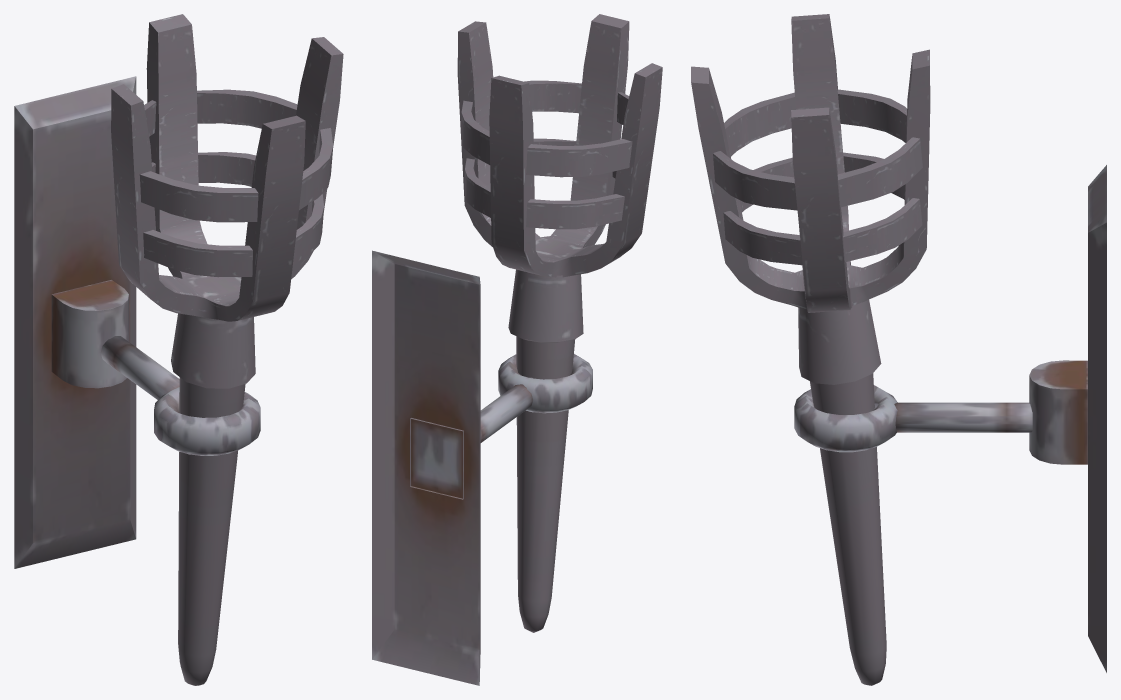
Rendered from torch.glb.
3 renders of one model, left to right at view 1: azimuth 30°, elevation 25°; view 2: azimuth 150°, elevation 25°; view 3: azimuth 270°, elevation 25°, orthographic. The views are drawn at different scales.
Parts seen in each view (by area): view 1: Torch_Metal; view 2: Torch_Metal; view 3: Torch_Metal.
Part boxes in pixels (x1,y1,x2,y2): Torch_Metal: (14, 14, 343, 685); Torch_Metal: (372, 14, 662, 685); Torch_Metal: (691, 14, 1106, 685).
Bounding box in the file's own units: 0.2232 × 0.6482 × 0.3884.
1 material, 1 textured.
